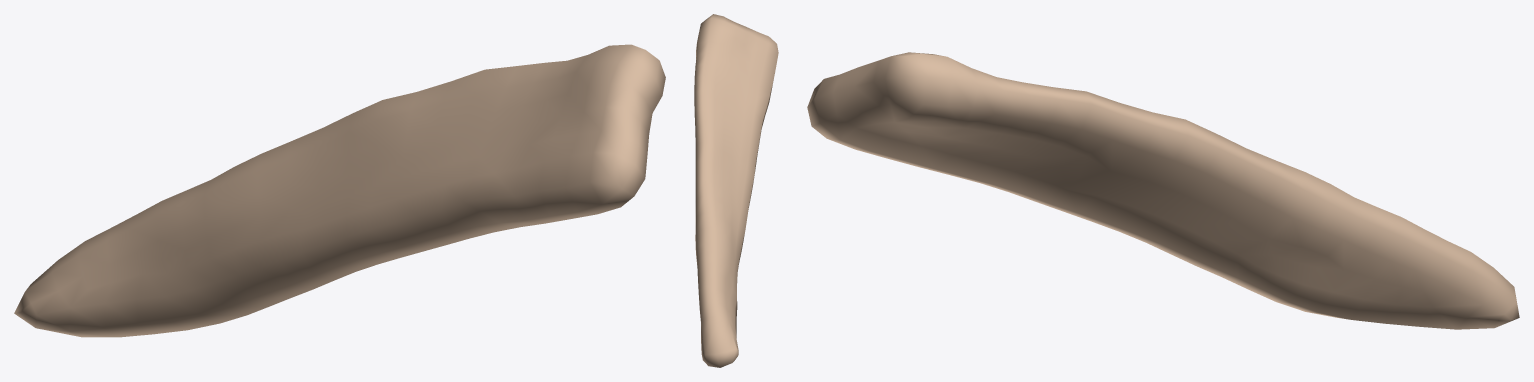
3 renders of one model, left to right at view 1: azimuth 30°, elevation 25°; view 2: azimuth 150°, elevation 25°; view 3: azimuth 270°, elevation 25°, orthographic. The views are drawn at different scales.
Visible parts, largest first — view 1: 右侧拇长展肌与拇短伸肌腱鞘; view 2: 右侧拇长展肌与拇短伸肌腱鞘; view 3: 右侧拇长展肌与拇短伸肌腱鞘.
Part boxes in pixels (<box>): 右侧拇长展肌与拇短伸肌腱鞘: <box>14,44,665,337</box>; 右侧拇长展肌与拇短伸肌腱鞘: <box>694,14,778,367</box>; 右侧拇长展肌与拇短伸肌腱鞘: <box>807,52,1519,329</box>.
Size of the model in its own units: 0.042 by 0.0467 by 0.0724.
